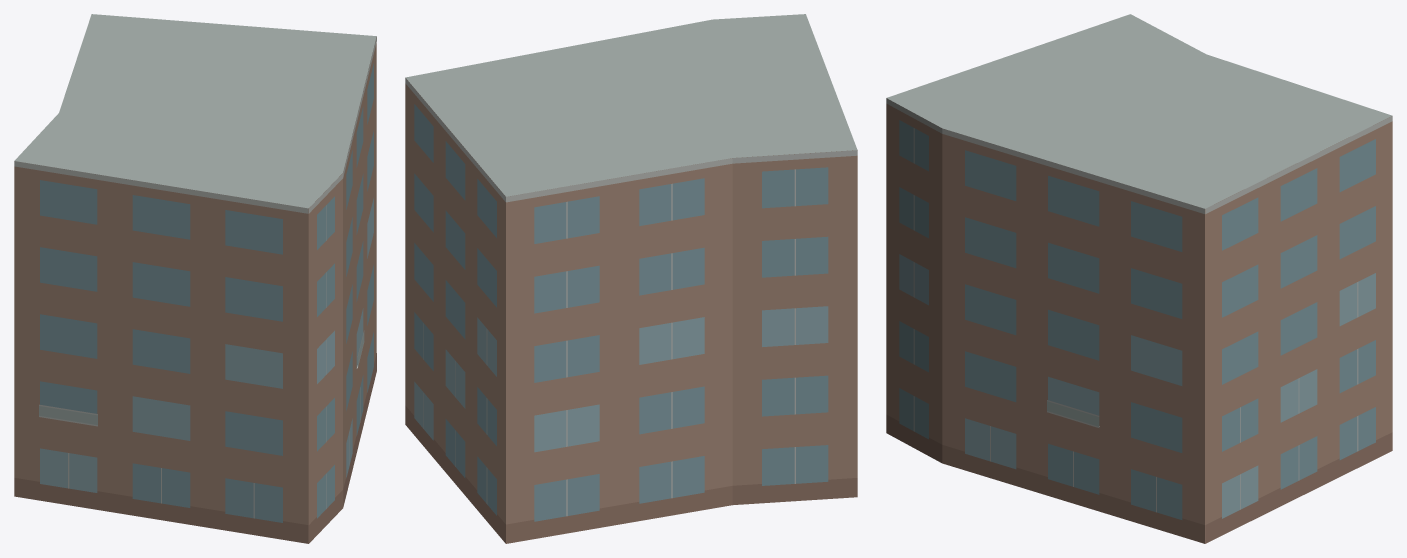
The model's file is survey-upis-32896238.glb.
3 renders of one model, left to right at view 1: azimuth 30°, elevation 25°; view 2: azimuth 150°, elevation 25°; view 3: azimuth 270°, elevation 25°, orthographic. The views are drawn at different scales.
Parts seen in each view (by area): view 1: survey-upis-32896238.tmp; view 2: survey-upis-32896238.tmp; view 3: survey-upis-32896238.tmp.
Part boxes in pixels (x1,y1,x2,y2): survey-upis-32896238.tmp: [14, 14, 376, 543]; survey-upis-32896238.tmp: [405, 14, 857, 543]; survey-upis-32896238.tmp: [886, 14, 1392, 543].
Bounding box in the file's own units: 18.72 × 15 × 20.55.
